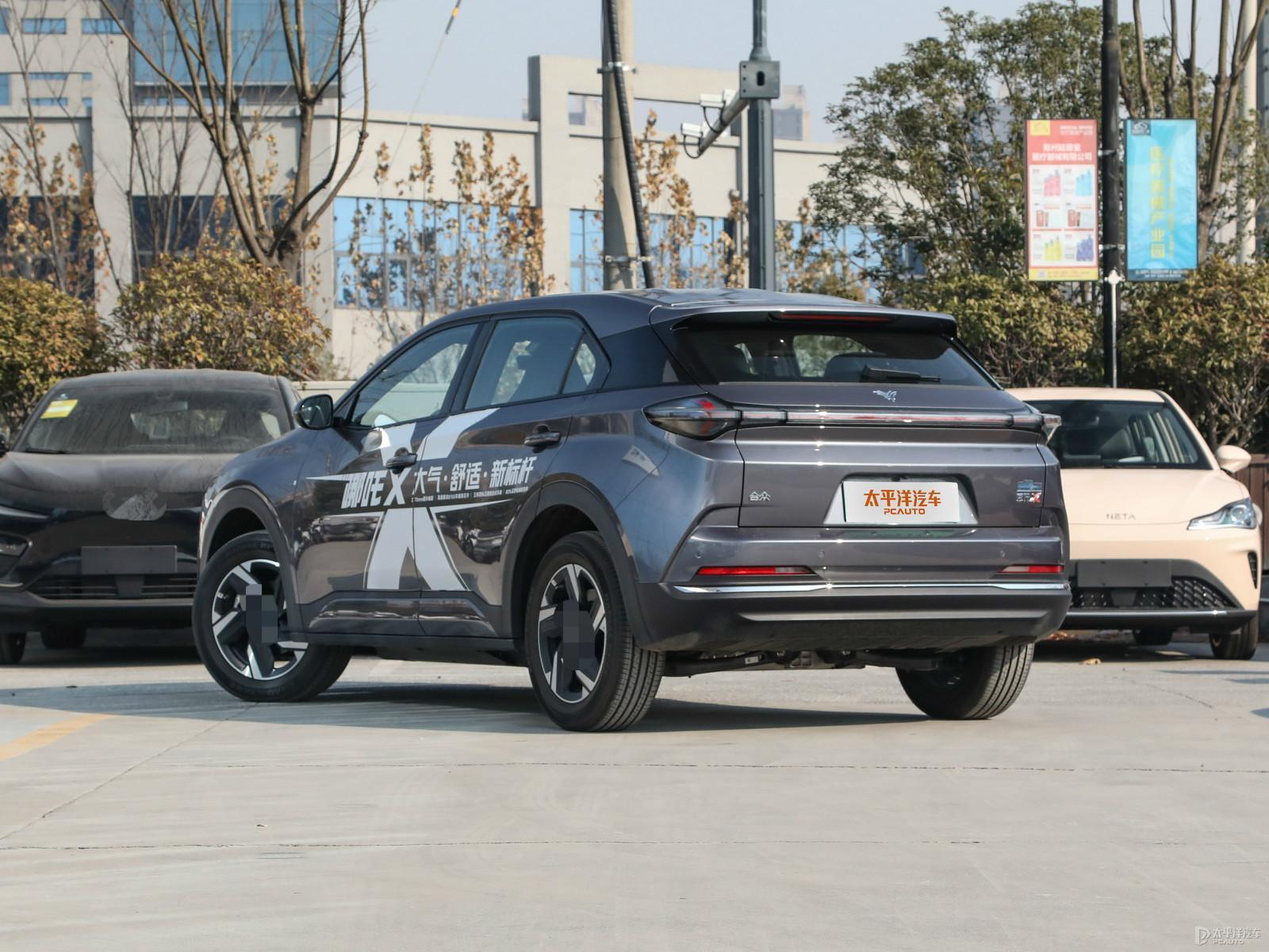NETA: (872, 388, 899, 405)
